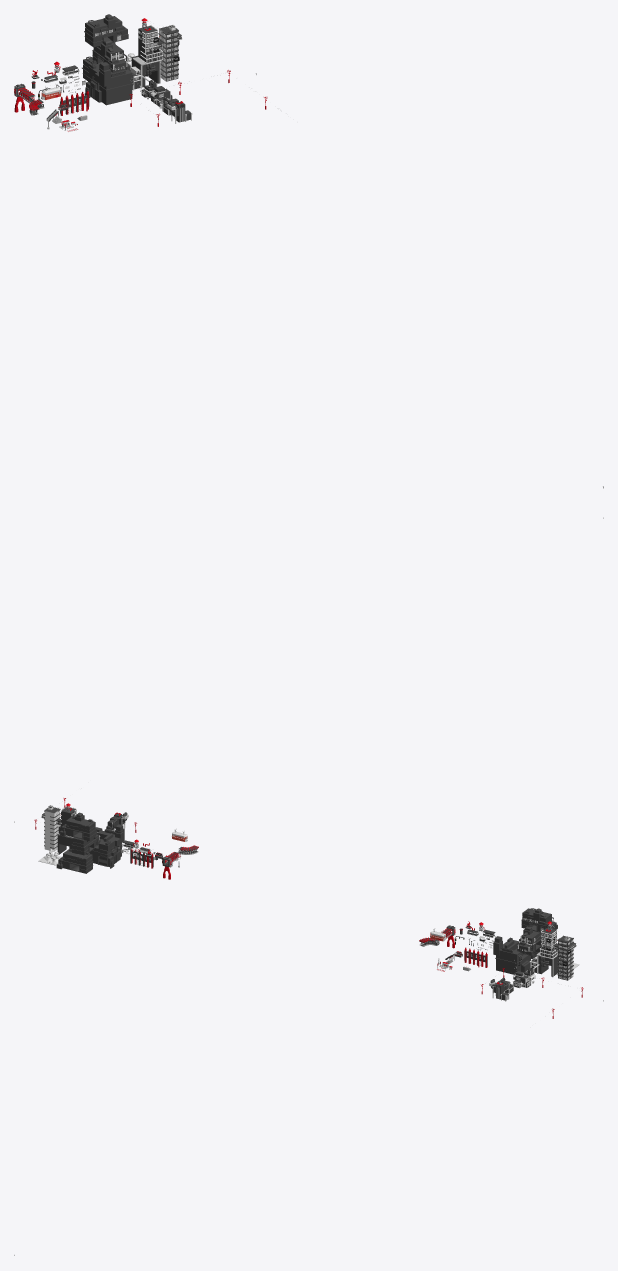
The model's file is ModularDesign_Def.fbx.
The picture shows the model from 3 angles, top to bottom: view 1: azimuth 30°, elevation 25°; view 2: azimuth 150°, elevation 25°; view 3: azimuth 330°, elevation 25°; orthographic projection. The views are drawn at different scales.
Visible parts, largest first — view 1: Cube.225, Cube.007, Cube.289, Cube.054, Cube.227; view 2: Cube.225, Cube.289, Cube.226, Cube.054; view 3: Cube.225, Cube.007, Cube.054, Cube.289, Cube.227.
Boxes of the visible parts, x1,y1,x2,y2 form: Cube.225: [84, 62, 133, 105]; Cube.007: [130, 25, 161, 89]; Cube.289: [84, 14, 128, 47]; Cube.054: [158, 26, 178, 81]; Cube.227: [92, 40, 130, 72]; Cube.225: [89, 824, 124, 868]; Cube.289: [60, 812, 96, 840]; Cube.226: [56, 849, 93, 873]; Cube.054: [44, 807, 60, 851]; Cube.225: [493, 936, 530, 974]; Cube.007: [531, 928, 557, 976]; Cube.054: [557, 935, 573, 980]; Cube.289: [521, 908, 557, 932]; Cube.227: [517, 926, 541, 955].
Bounding box in the file's own units: 15407 × 4364 × 68405.
